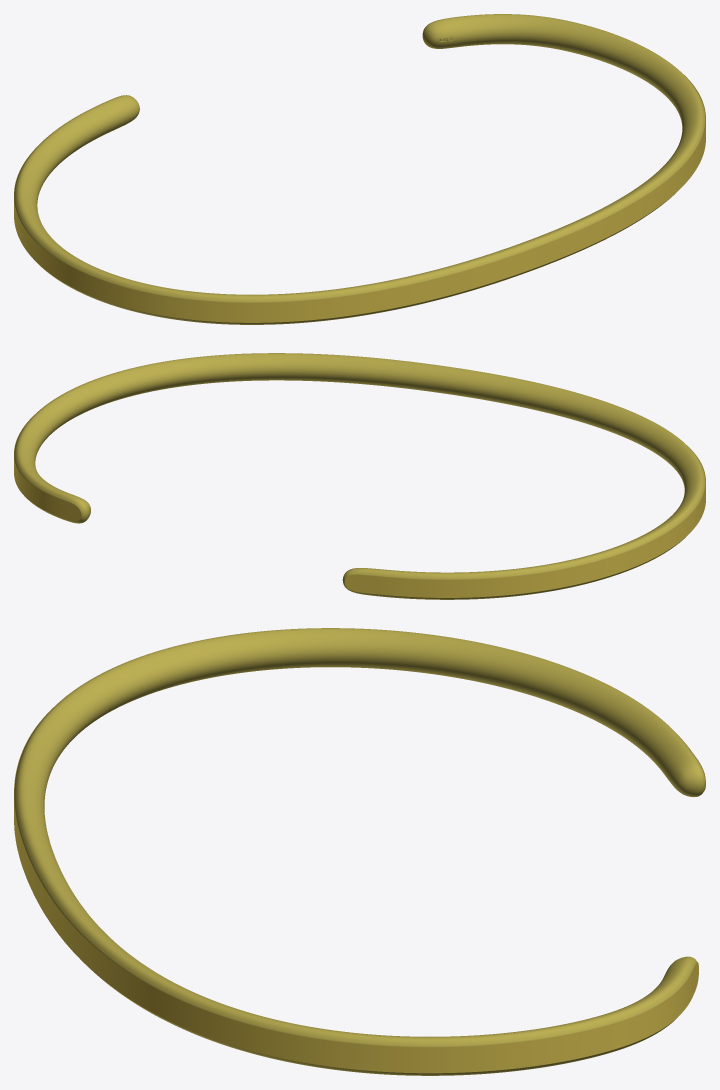
Rendered from bold-gold18.glb.
3 renders of one model, top to bottom at view 1: azimuth 30°, elevation 25°; view 2: azimuth 150°, elevation 25°; view 3: azimuth 270°, elevation 25°, orthographic. The views are drawn at different scales.
Visible parts, largest first — view 1: bold-body.001, bpld-omote.001; view 2: bold-body.001, bpld-omote.001; view 3: bold-body.001, bpld-omote.001.
Part boxes in pixels (x1=…): bold-body.001: x1=14, y1=14, x2=705, y2=324; bpld-omote.001: x1=14, y1=75, x2=705, y2=322; bold-body.001: x1=14, y1=353, x2=705, y2=599; bpld-omote.001: x1=14, y1=414, x2=705, y2=597; bold-body.001: x1=14, y1=628, x2=705, y2=1075; bpld-omote.001: x1=14, y1=707, x2=705, y2=1073.
Bounding box in the file's own units: 3.4 × 0.1422 × 2.39.
2 materials, 2 textured.
